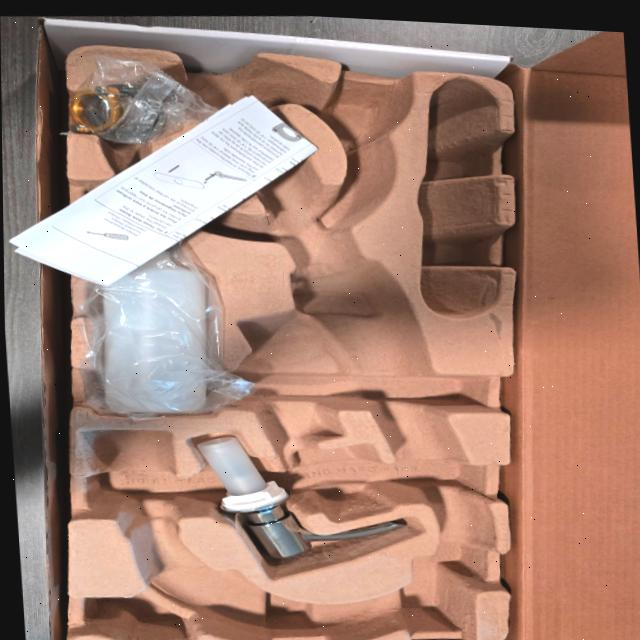1m: (81, 52, 492, 640)
2: (194, 436, 407, 560)
3o: (96, 232, 208, 416)
4m: (419, 75, 500, 321)
5m: (324, 86, 402, 143)
6: (59, 54, 211, 144)
7m: (90, 162, 233, 235)
8: (8, 96, 316, 288)
